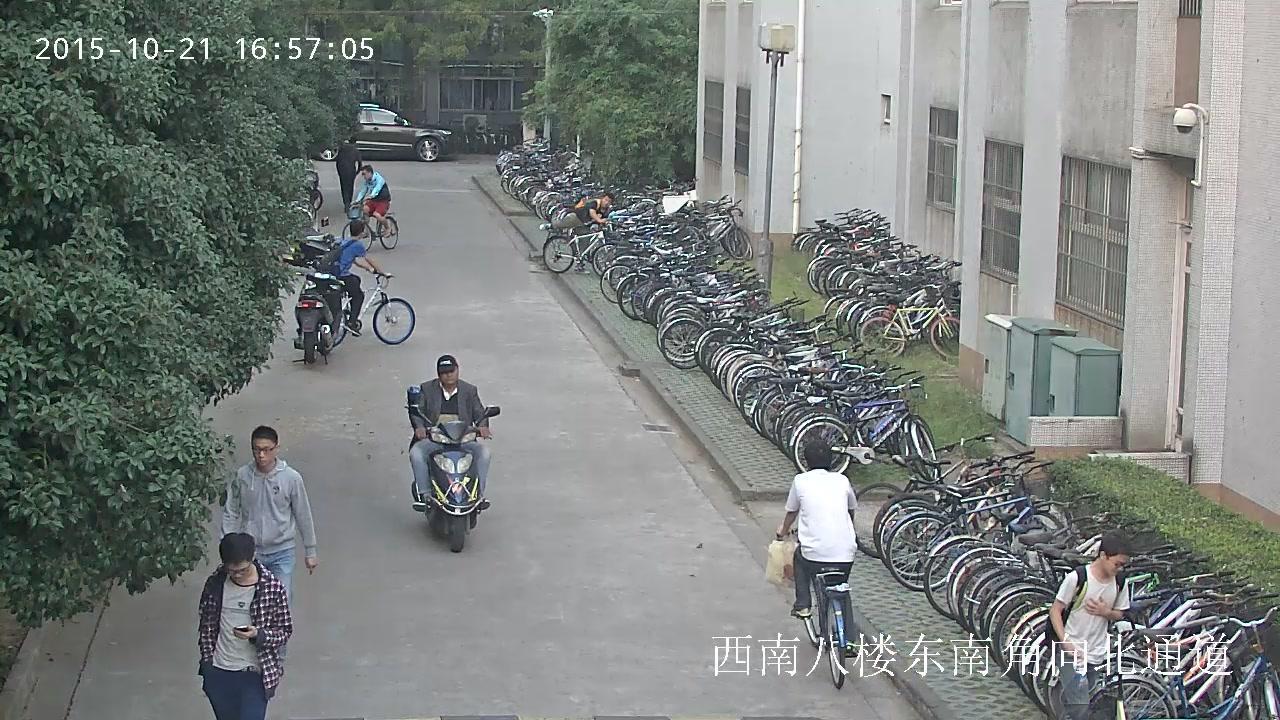face: (252, 438, 275, 465), (226, 561, 251, 582), (1105, 555, 1129, 575), (439, 366, 456, 383), (600, 195, 611, 206), (361, 169, 369, 178)
